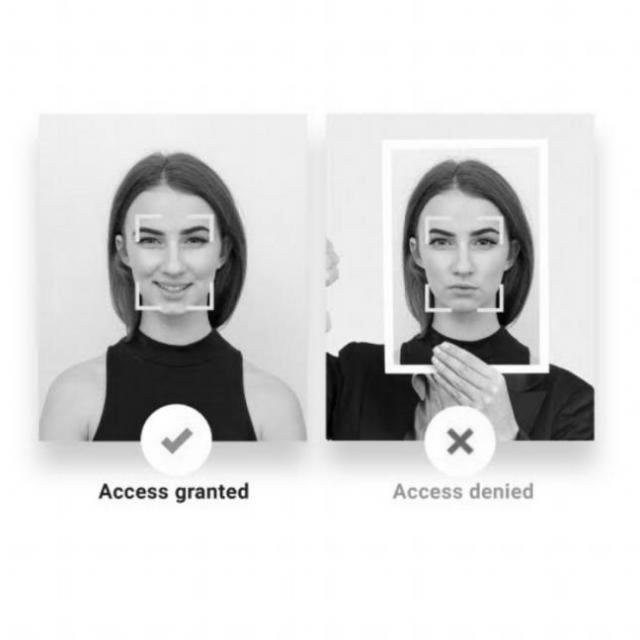fake: (379, 135, 558, 381)
